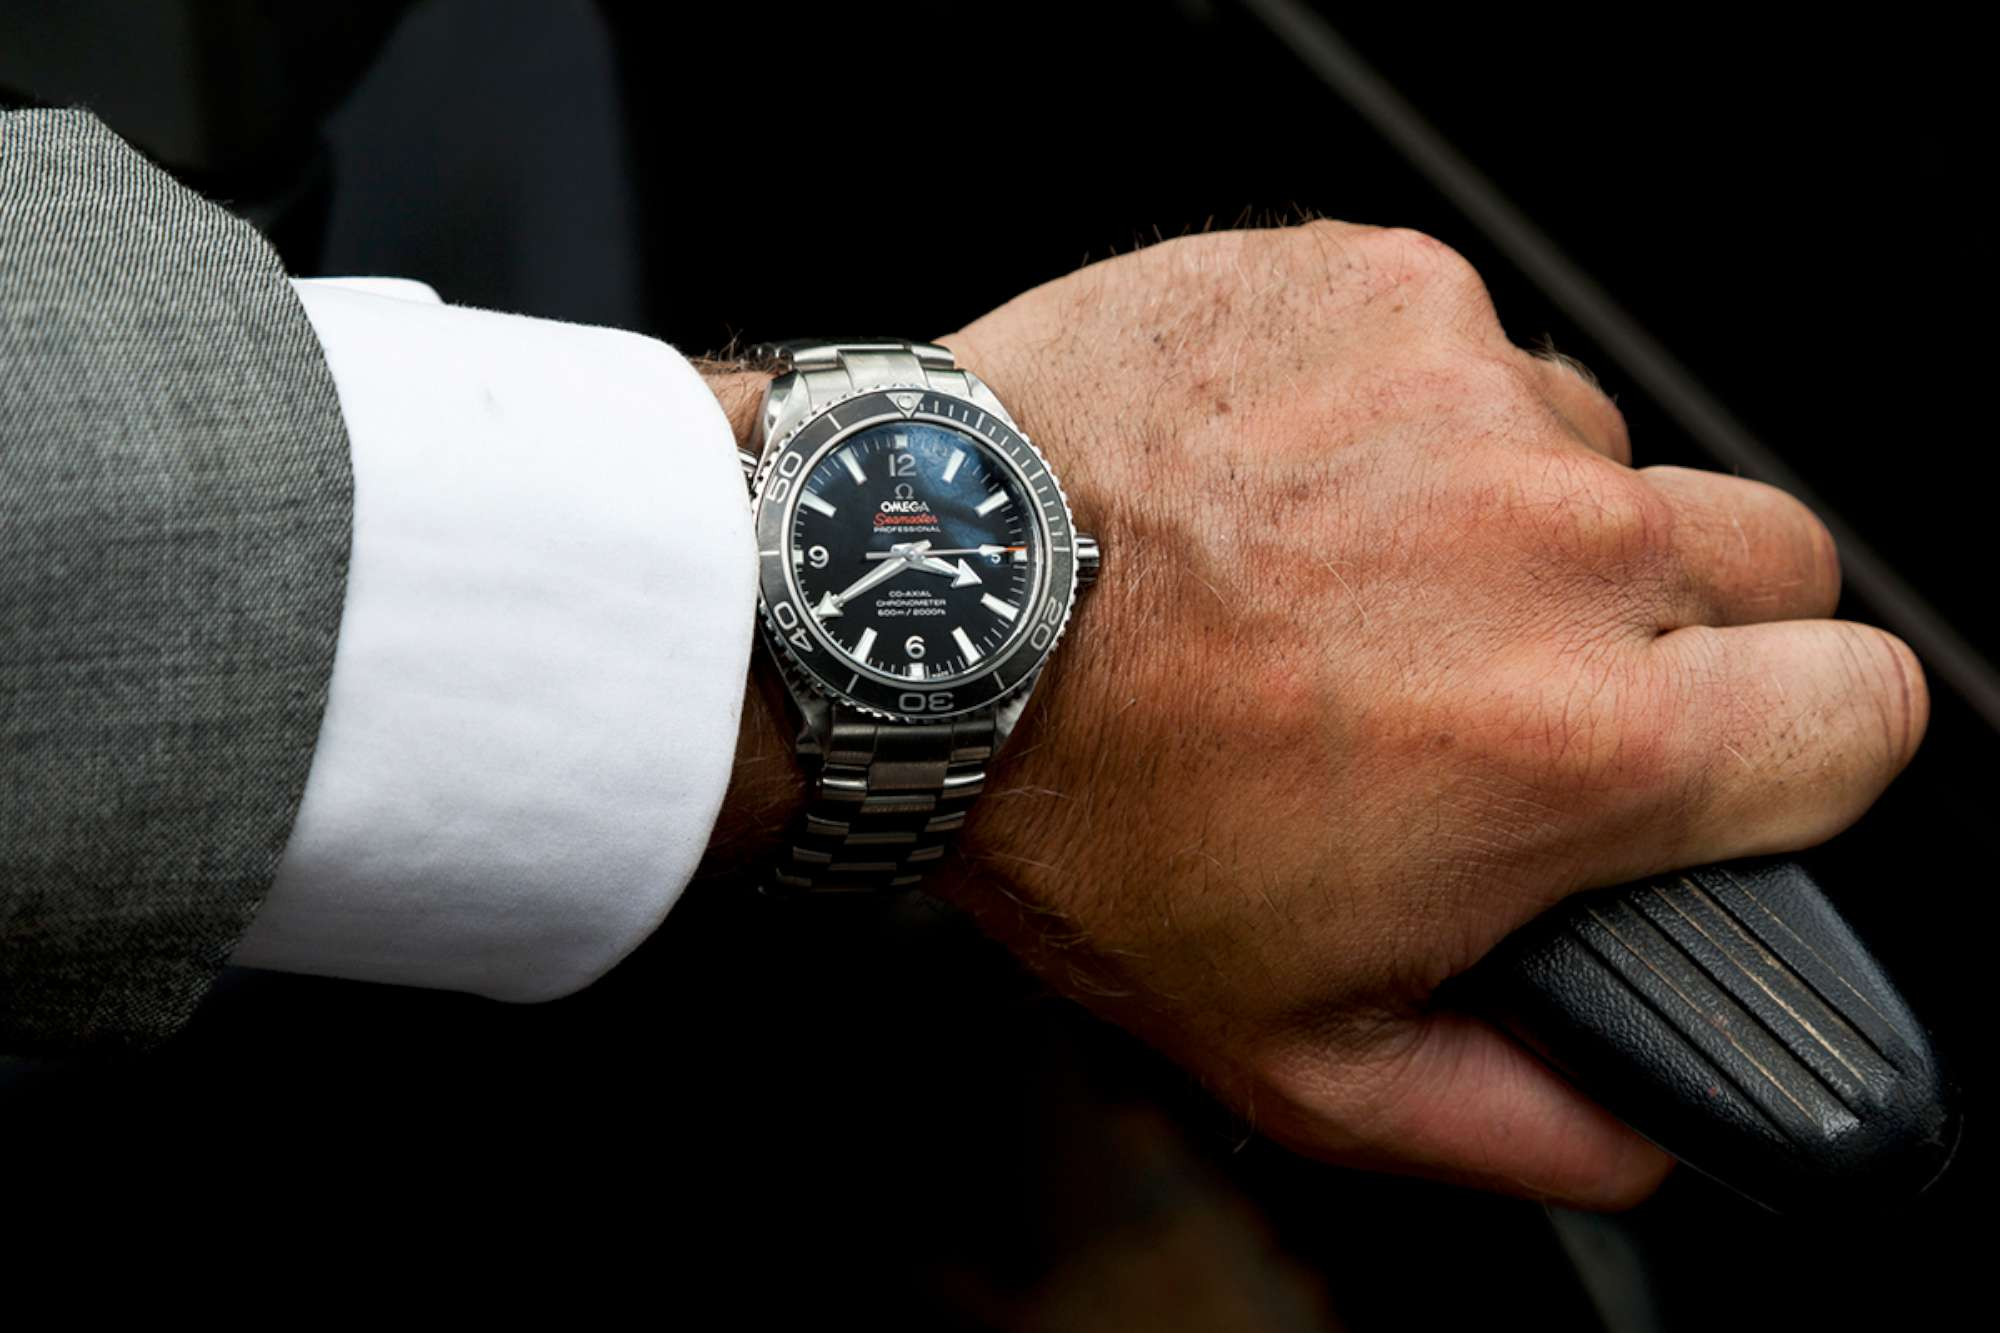clock: (796, 420, 1048, 683)
